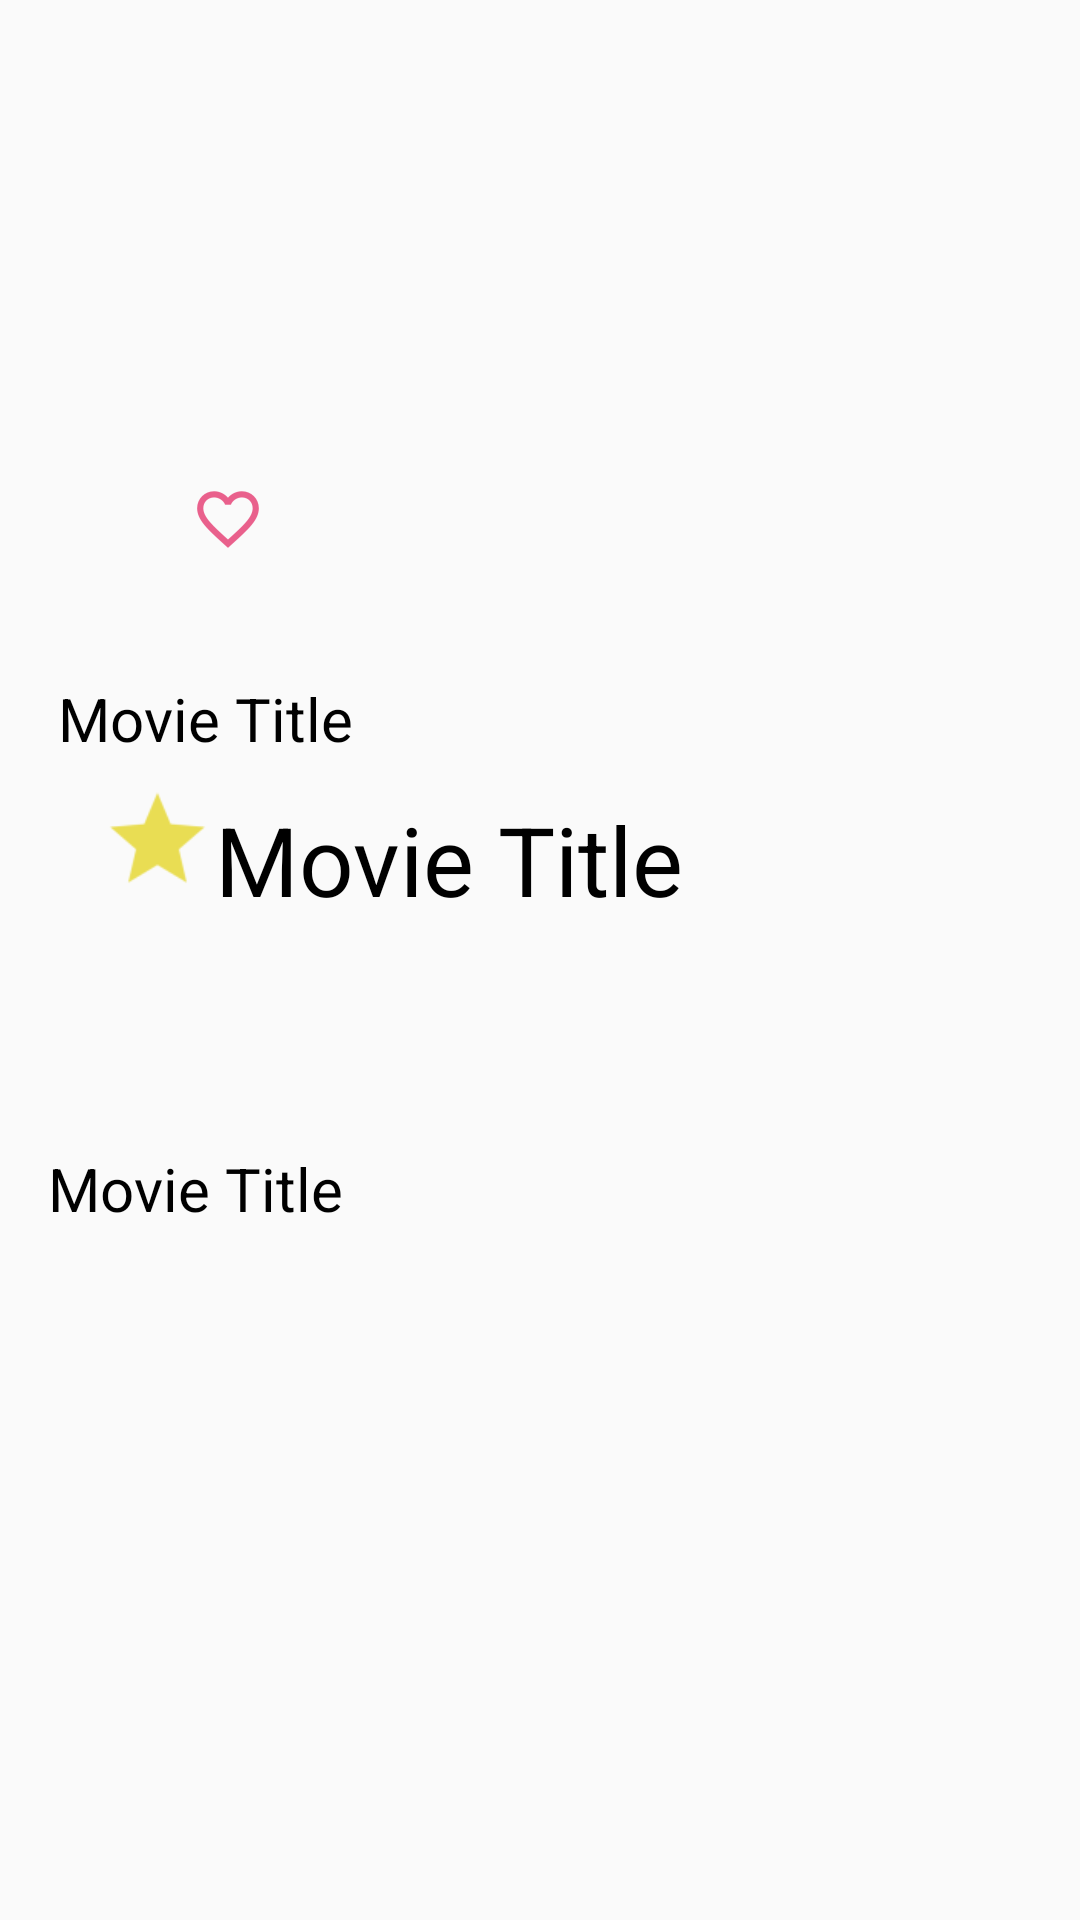

Where icons sit on this 1080px×1920px app screen, as (x1, y1, x2, y2):
fav: (197, 491, 259, 548)
vote: (110, 793, 205, 883)
